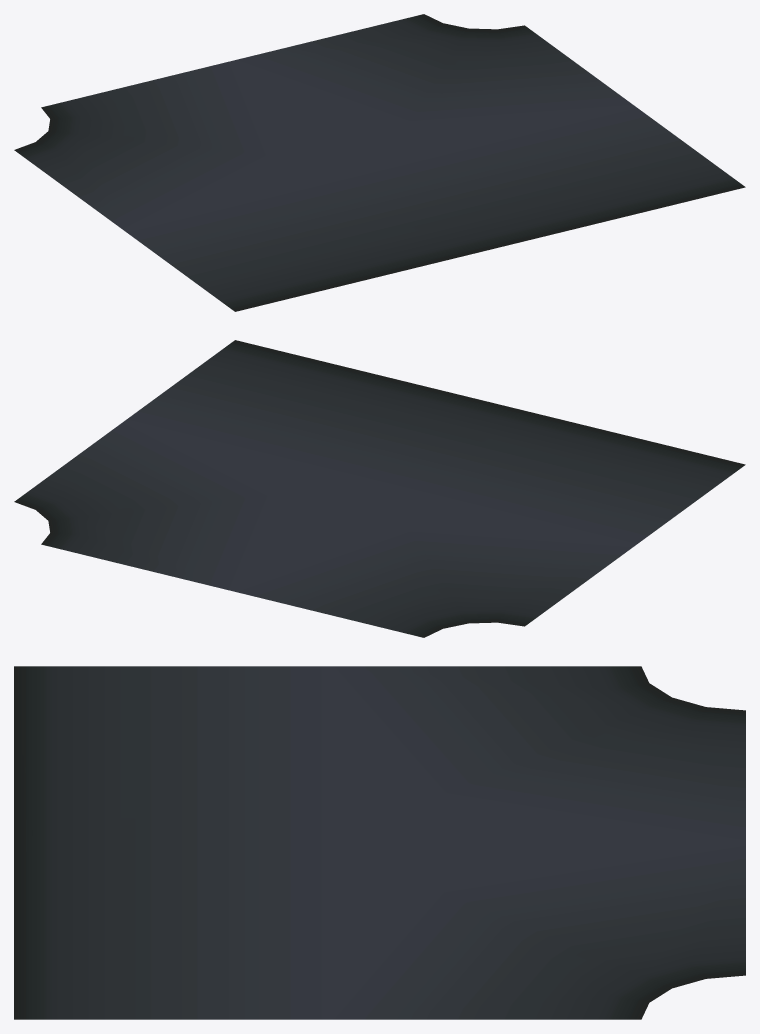
The picture shows the model from 3 angles, top to bottom: view 1: azimuth 30°, elevation 25°; view 2: azimuth 150°, elevation 25°; view 3: azimuth 270°, elevation 25°; orthographic projection. The views are drawn at different scales.
Visible parts, largest first — view 1: road_section_t_section.001; view 2: road_section_t_section.001; view 3: road_section_t_section.001.
Boxes of the visible parts, x1,y1,x2,y2 form: road_section_t_section.001: (14, 14, 745, 311); road_section_t_section.001: (14, 340, 745, 637); road_section_t_section.001: (14, 666, 745, 1019).
Bounding box in the file's own units: 16 × 2.86e-06 × 14.
1 material, 1 textured.
